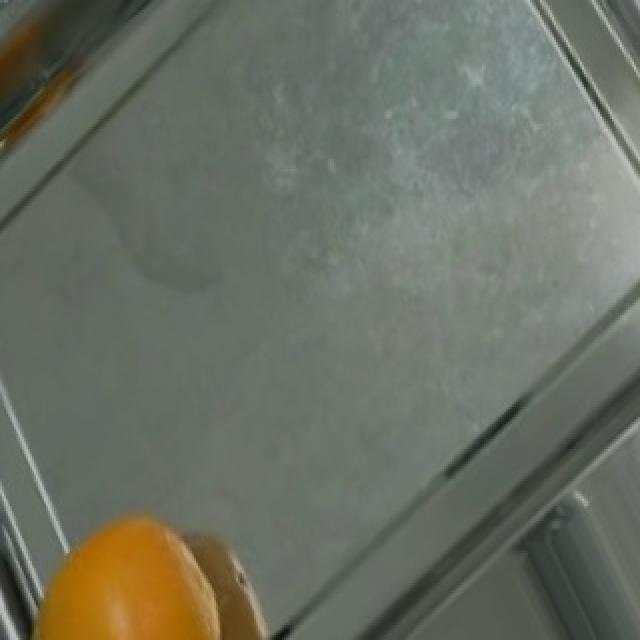Fruit: (10, 496, 242, 640), (382, 528, 590, 640)
